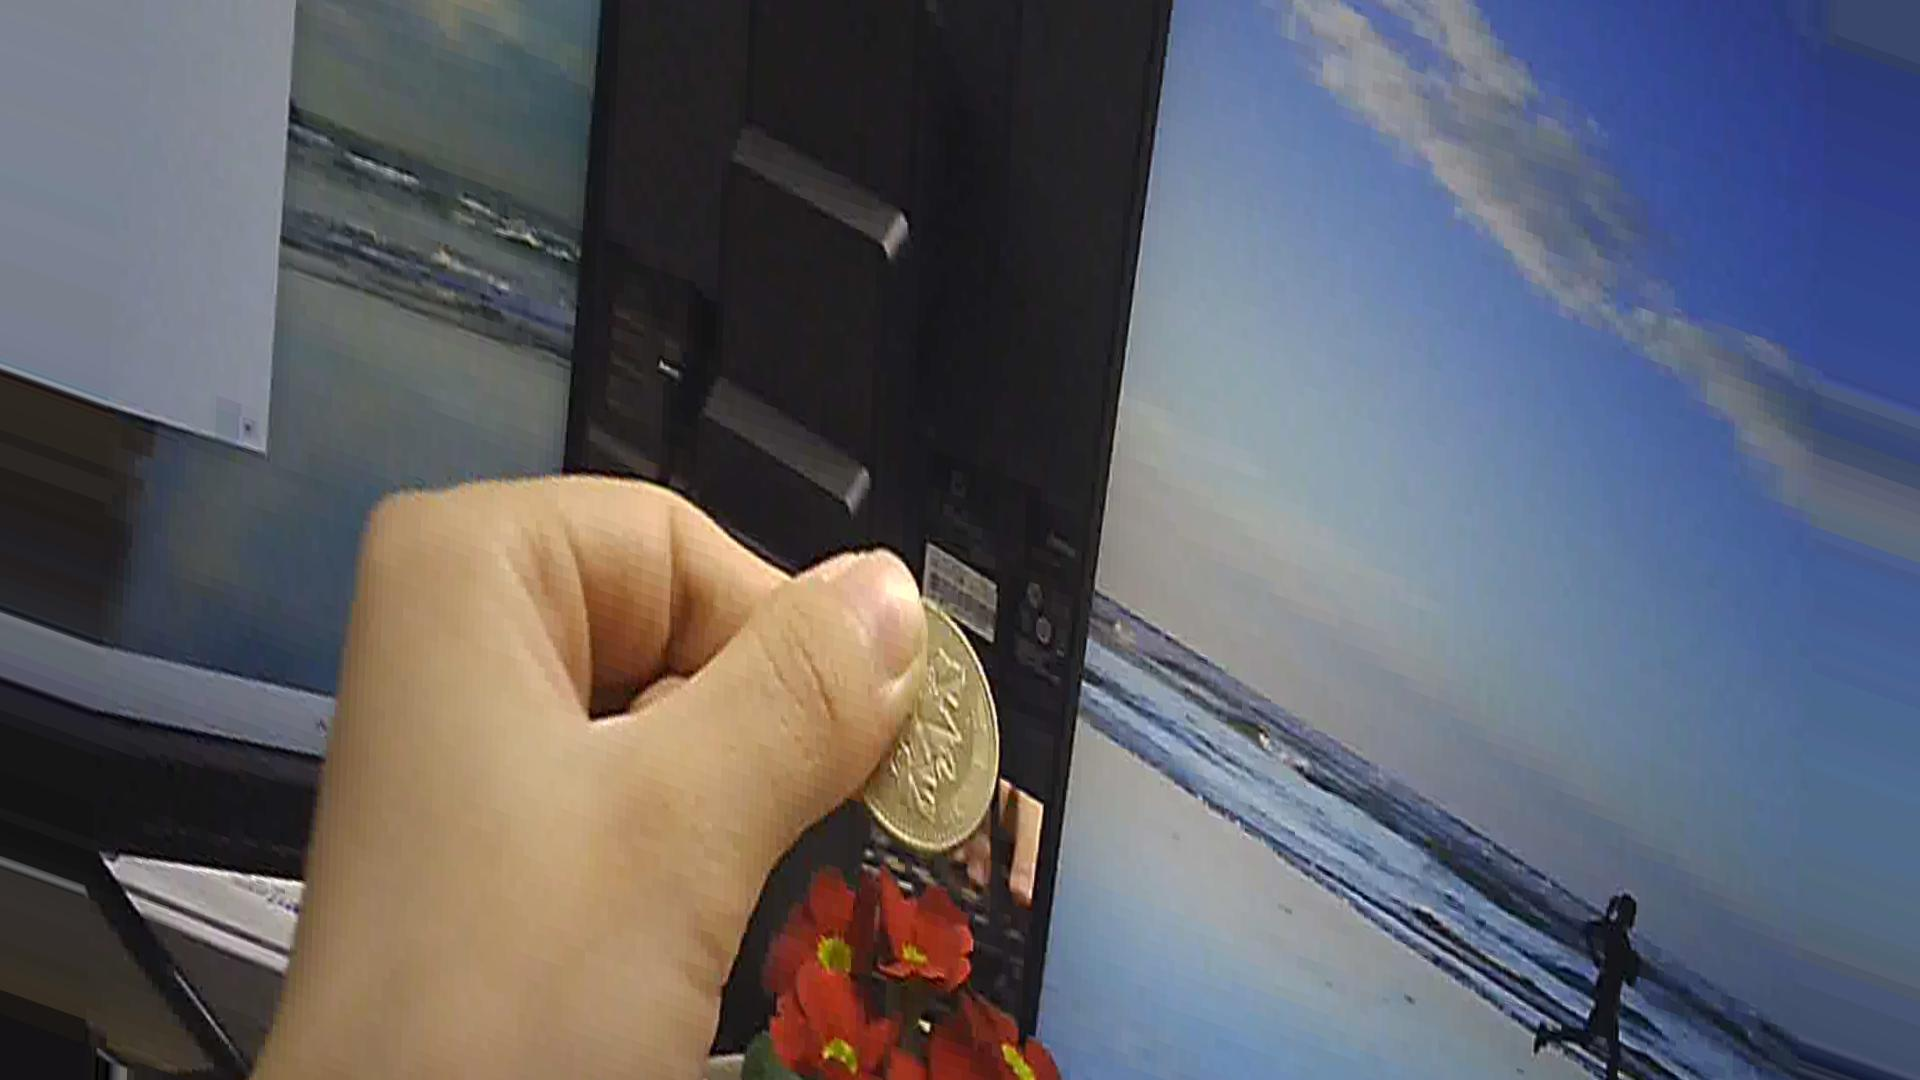500 Yen: (837, 589, 1000, 853)
